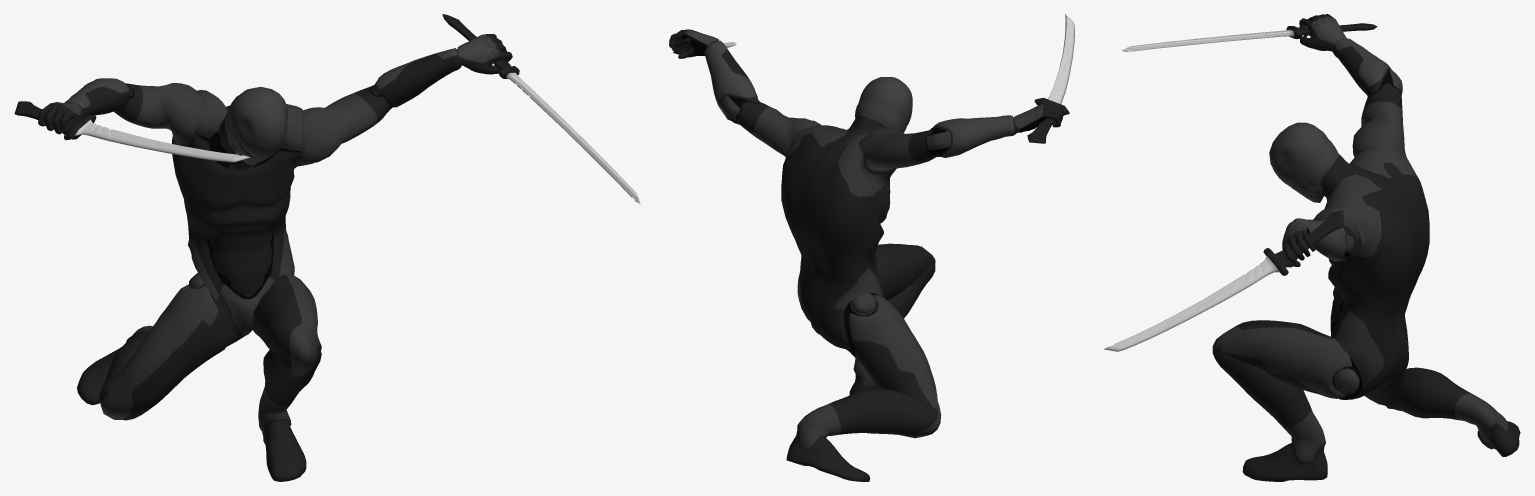
3 views of the same model, side by side, from view 1: azimuth 30°, elevation 25°; view 2: azimuth 150°, elevation 25°; view 3: azimuth 270°, elevation 25° (orthographic). The views are drawn at different scales.
Visible parts, largest first — view 1: Cyborg_Ninja_Killer, Sword_l001, Sword_l; view 2: Cyborg_Ninja_Killer, Sword_l001; view 3: Cyborg_Ninja_Killer, Sword_l, Sword_l001.
Part boxes in pixels (x1,y1,x2,y2): Cyborg_Ninja_Killer: (38,34,512,481); Sword_l001: (14,101,250,162); Sword_l: (442,14,640,203); Cyborg_Ninja_Killer: (669,29,1063,481); Sword_l001: (1027,14,1074,143); Cyborg_Ninja_Killer: (1212,14,1520,481); Sword_l: (1104,210,1344,351); Sword_l001: (1121,23,1377,51).
Bounding box in the file's own units: 172 × 132 × 134.
Materials: 2 (2 with a texture image).
